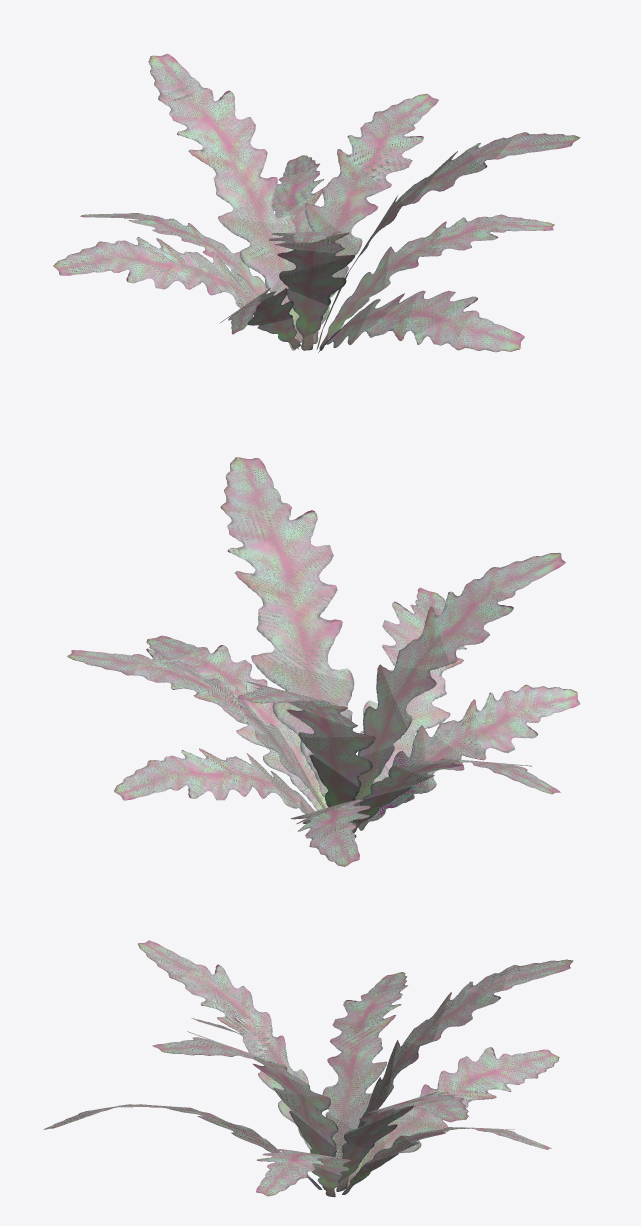
File: Spindlewit D2.fbx
3 renders of one model, top to bottom at view 1: azimuth 30°, elevation 25°; view 2: azimuth 150°, elevation 25°; view 3: azimuth 270°, elevation 25°, orthographic. The views are drawn at different scales.
Parts seen in each view (by area): view 1: Spindlewit D2; view 2: Spindlewit D2; view 3: Spindlewit D2.
Boxes of the visible parts, x1,y1,x2,y2 form: Spindlewit D2: [53, 53, 580, 352]; Spindlewit D2: [67, 457, 580, 866]; Spindlewit D2: [43, 940, 573, 1197].
Size of the model in its own units: 118 by 57.68 by 125.
